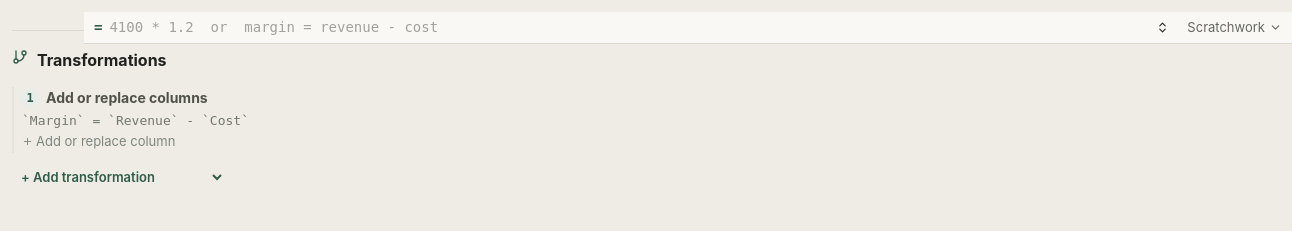
Test: PipelineEditor formula sessions › keeps a session the engine refused, and reads the refusal in the bar
Click the button "`Margin` = `Revenue` - `Cost`" at {"x": 135, "y": 120}, box [21,111,1270,130]
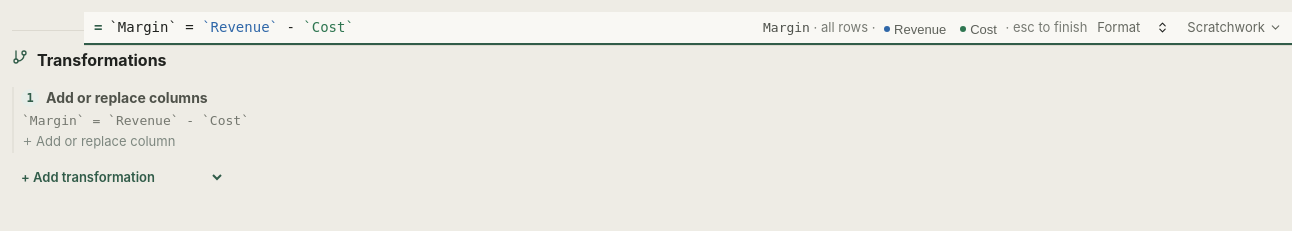
Now the text "Margin" is shown, box [763,20,810,35]
Replace the text in the text box named "Edit Margin" with "`Margin` = `Revenu` - `Cost`" at {"x": 433, "y": 28}, box [109,14,756,41]
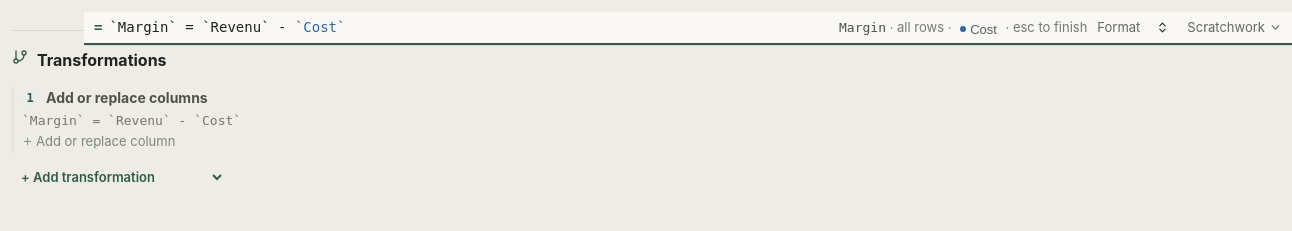
Press Enter in the text box named "Edit Margin", box [109,14,832,41]
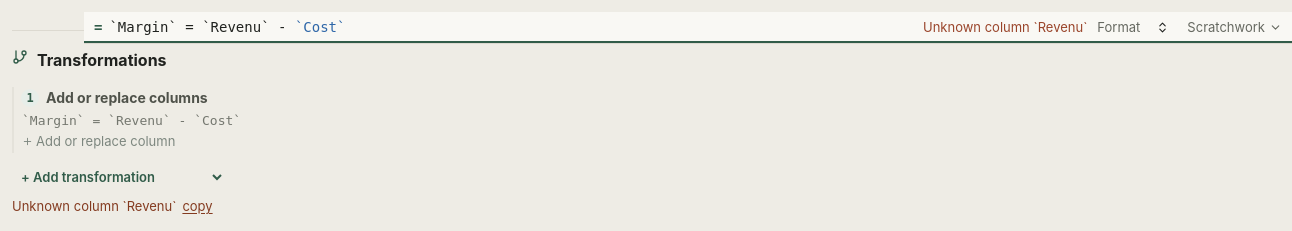
Now the 1st element showing "`Margin` = `Revenu` - `Cost`" is shown, box [109,19,345,35]
Now the text "Unknown column `Revenu`" is shown, box [923,19,1087,35]
